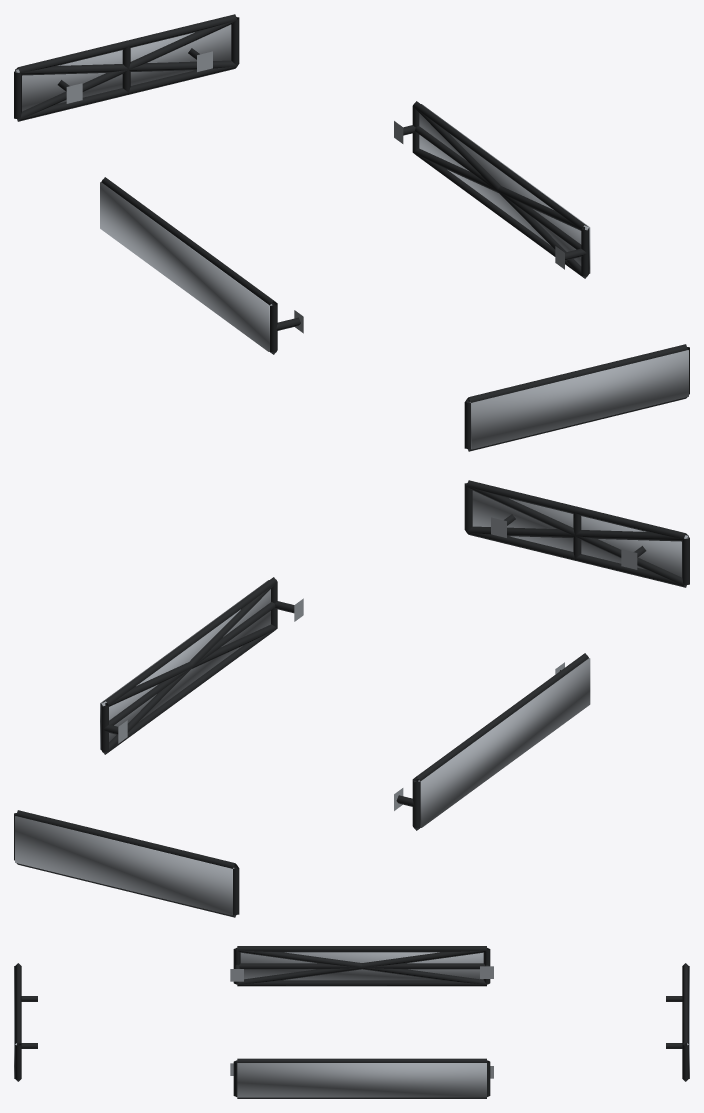
Rendered from ashworth_soberano_protecao.glb.
3 views of the same model, one above another, from view 1: azimuth 30°, elevation 25°; view 2: azimuth 150°, elevation 25°; view 3: azimuth 270°, elevation 25° (orthographic). The views are drawn at different scales.
Visible parts, largest first — view 1: Protection_front_Level3_Details, Protection_left_Level3_Details, Protection_rear_Level1_Details, Protection_rear_Level3_Details, Protection_right_Level1_Details, Protection_right_Level2_Details, Protection_rear_Level2_Details, Protection_right_Level3_Details, Protection_front_Level1_Details, Protection_left_Level1_Details; view 2: Protection_rear_Level3_Details, Protection_left_Level3_Details, Protection_front_Level1_Details, Protection_front_Level3_Details, Protection_right_Level1_Details, Protection_right_Level2_Details, Protection_front_Level2_Details, Protection_right_Level3_Details, Protection_rear_Level1_Details, Protection_left_Level1_Details; view 3: Protection_right_Level3_Details, Protection_left_Level2_Details, Protection_left_Level1_Details, Protection_left_Level3_Details, Protection_right_Level1_Details, Protection_rear_Level1_Details, Protection_front_Level1_Details.
Part boxes in pixels (x1,y1,x2,y2): Protection_front_Level3_Details: (469,350,688,449); Protection_left_Level3_Details: (100,182,272,351); Protection_rear_Level1_Details: (14,14,239,121); Protection_rear_Level3_Details: (15,24,231,111); Protection_right_Level1_Details: (394,101,589,278); Protection_right_Level2_Details: (413,107,587,278); Protection_rear_Level2_Details: (16,20,236,120); Protection_right_Level3_Details: (419,104,590,273); Protection_front_Level1_Details: (464,344,689,451); Protection_left_Level1_Details: (101,177,303,354); Protection_rear_Level3_Details: (15,816,234,915); Protection_left_Level3_Details: (418,658,590,827); Protection_front_Level1_Details: (464,480,689,587); Protection_front_Level3_Details: (472,490,688,577); Protection_right_Level1_Details: (101,577,303,754); Protection_right_Level2_Details: (102,583,277,754); Protection_front_Level2_Details: (467,486,687,586); Protection_right_Level3_Details: (100,580,270,749); Protection_rear_Level1_Details: (14,810,239,917); Protection_left_Level1_Details: (394,653,588,830); Protection_right_Level3_Details: (237,1063,486,1097); Protection_left_Level2_Details: (237,948,487,984); Protection_left_Level1_Details: (230,946,493,986); Protection_left_Level3_Details: (240,952,483,980); Protection_right_Level1_Details: (230,1058,493,1098); Protection_rear_Level1_Details: (666,963,688,1081); Protection_front_Level1_Details: (15,963,37,1081).
Bounding box in the file's own units: 2.18 × 0.354 × 5.36.
Materials: 1 (1 with a texture image).
